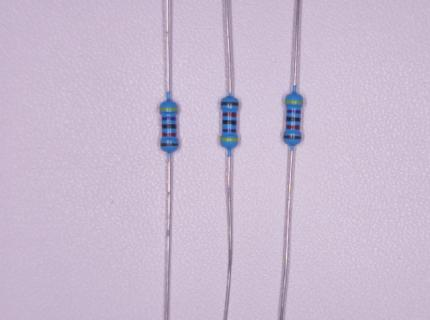Black band: (286, 117, 300, 122), (162, 124, 176, 129), (223, 120, 236, 125)
Brown band: (284, 135, 302, 139), (221, 102, 239, 106), (161, 143, 179, 146)
Red band: (286, 125, 300, 130), (162, 132, 176, 137), (223, 112, 236, 117)
Violet band: (287, 110, 301, 114), (222, 129, 236, 133), (162, 117, 176, 121)
Yellow band: (220, 138, 238, 141), (285, 100, 303, 103), (160, 108, 177, 111)
